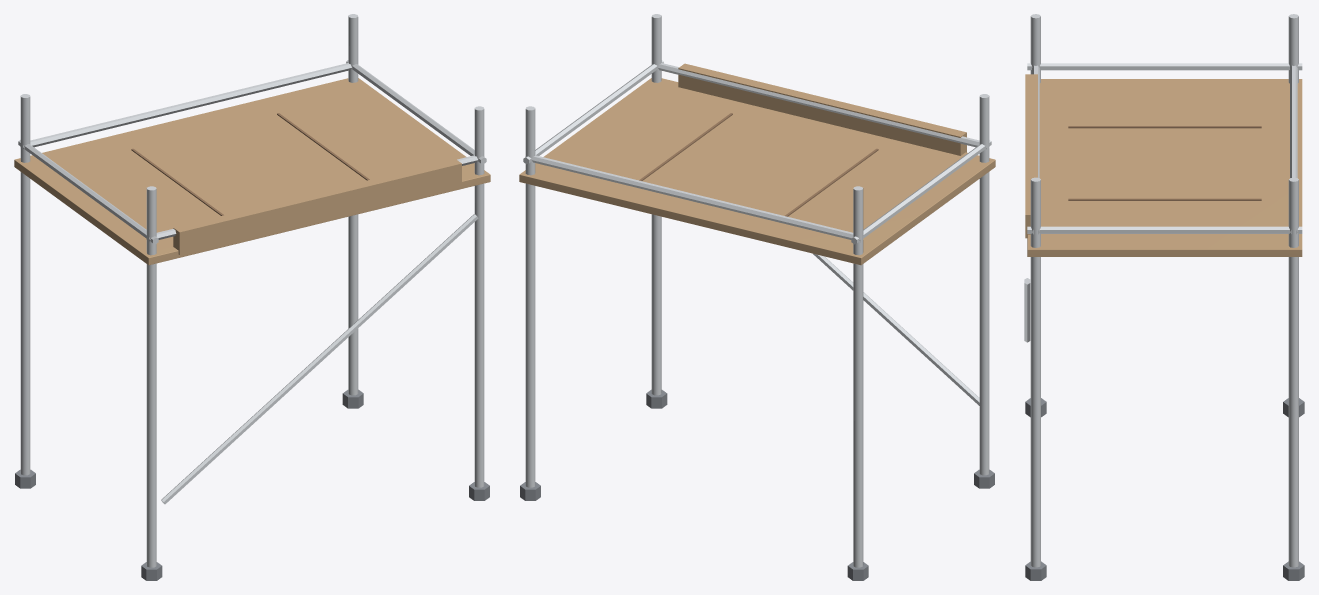
File: Scaffold_Bay.fbx
3 views of the same model, side by side, from view 1: azimuth 30°, elevation 25°; view 2: azimuth 150°, elevation 25°; view 3: azimuth 270°, elevation 25° (orthographic). The views are drawn at different scales.
Parts seen in each view (by area): view 1: LOD0; view 2: LOD0; view 3: LOD0.
Boxes of the visible parts, left/top/right/bottom form: LOD0: left=14, top=14, right=490, bottom=580; LOD0: left=519, top=14, right=995, bottom=580; LOD0: left=1024, top=14, right=1304, bottom=580.
Size of what is drawn, in the model's own units: 189 by 204 by 130.
